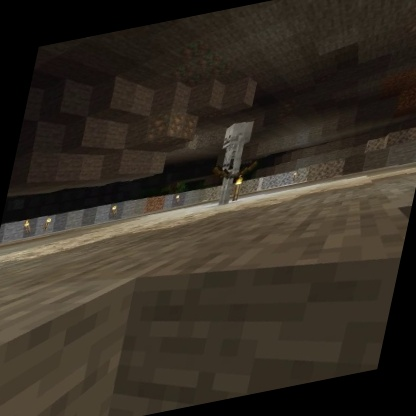skeleton: (200, 113, 272, 212)
